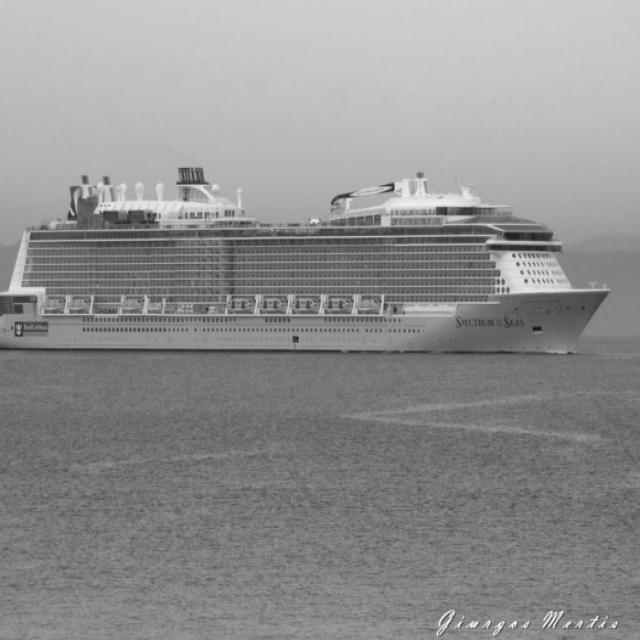cruises: (1, 159, 614, 365)
